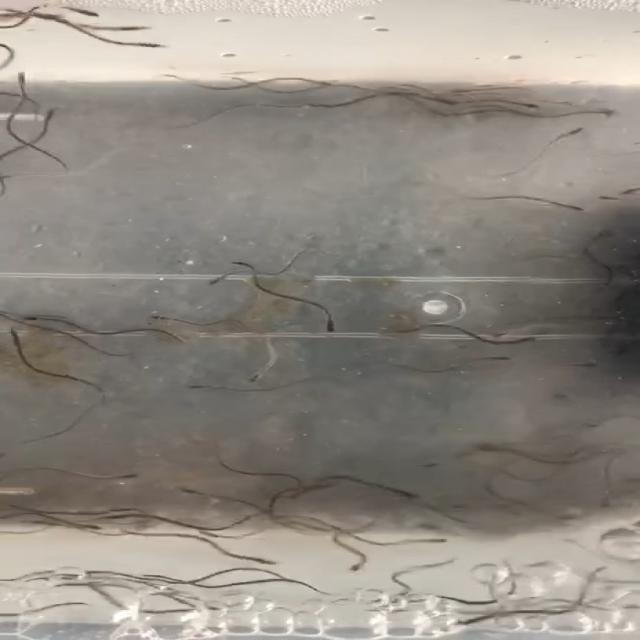active_glass_eel: (406, 530, 456, 549), (232, 550, 278, 568), (180, 378, 228, 394), (15, 310, 57, 328), (106, 18, 156, 33), (205, 269, 242, 288), (59, 2, 100, 19), (108, 466, 146, 484), (436, 497, 476, 514), (124, 36, 168, 51), (242, 364, 273, 385), (549, 126, 583, 145), (488, 321, 526, 338), (36, 109, 64, 132), (11, 70, 39, 92), (575, 106, 619, 120), (69, 516, 106, 532), (340, 559, 382, 573), (75, 564, 113, 579), (425, 95, 464, 109), (550, 200, 589, 214), (170, 486, 212, 499), (189, 527, 225, 542), (504, 334, 542, 348), (564, 356, 602, 370), (1, 323, 22, 348), (508, 96, 540, 112), (451, 616, 493, 628), (390, 487, 423, 502), (37, 572, 81, 583), (371, 593, 410, 605), (592, 192, 627, 205), (471, 442, 516, 452), (548, 386, 576, 402), (422, 456, 459, 468), (318, 316, 342, 334), (574, 419, 613, 430), (477, 354, 519, 364), (42, 582, 80, 592), (311, 77, 341, 89), (127, 572, 162, 582), (140, 312, 174, 322), (615, 184, 640, 195), (551, 97, 581, 106)
